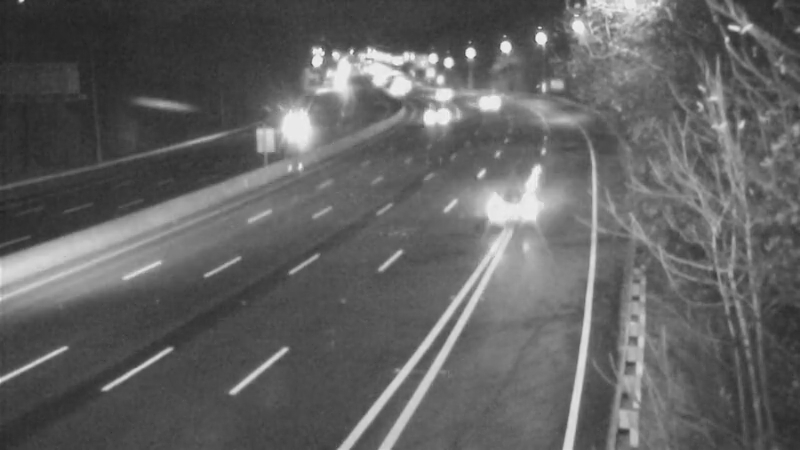vehicle: (473, 157, 553, 237), (417, 67, 467, 117), (467, 73, 517, 123), (411, 88, 461, 138), (270, 103, 320, 153)
